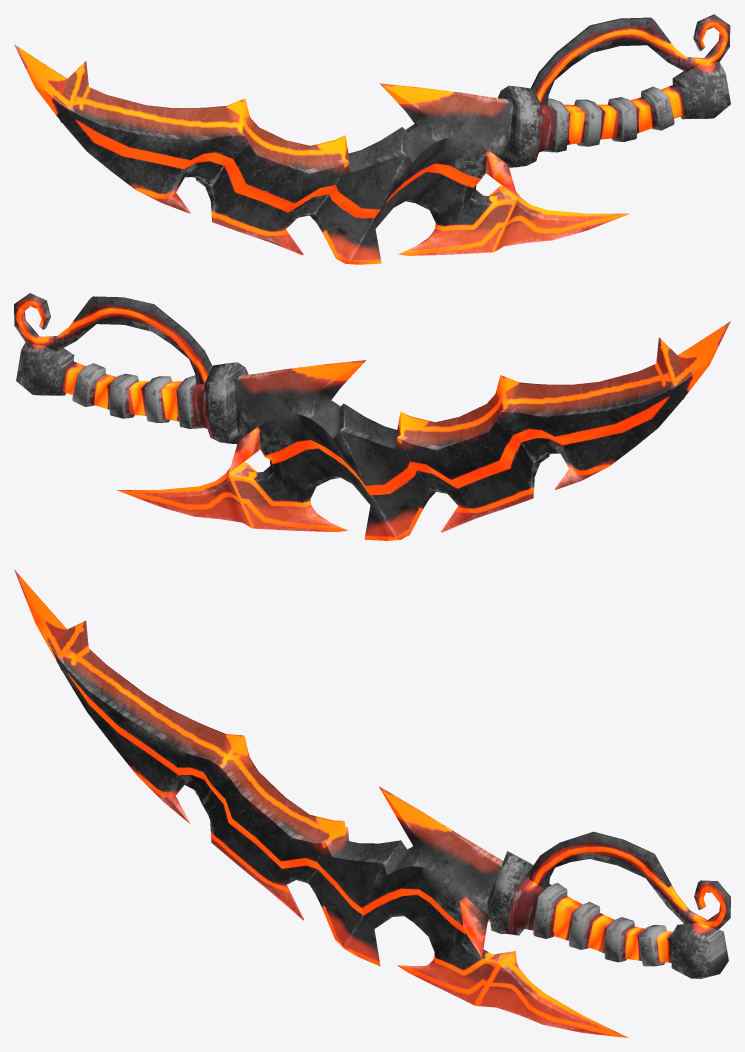
The model's file is DualSword_LOD1.fbx.
3 renders of one model, top to bottom at view 1: azimuth 30°, elevation 25°; view 2: azimuth 150°, elevation 25°; view 3: azimuth 330°, elevation 25°, orthographic.
Parts seen in each view (by area): view 1: DualSwords_LOD0; view 2: DualSwords_LOD0; view 3: DualSwords_LOD0.
Part boxes in pixels (x1,y1,x2,y2): DualSwords_LOD0: (14,14,730,264); DualSwords_LOD0: (14,293,730,540); DualSwords_LOD0: (14,569,730,1037).
Bounding box in the file's own units: 215 × 93.49 × 17.81.
